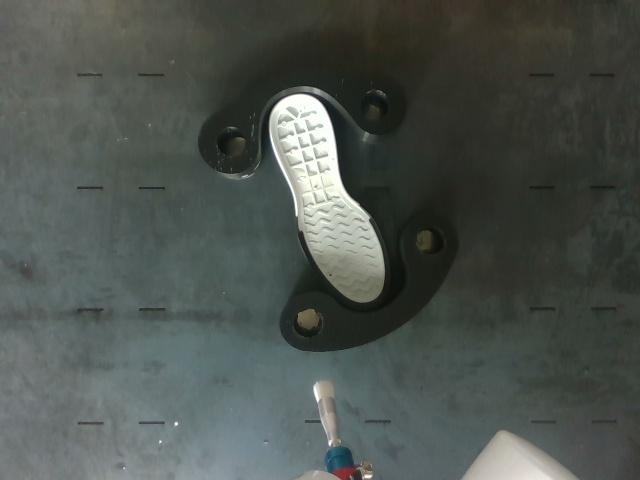shoes: (268, 94, 387, 305)
